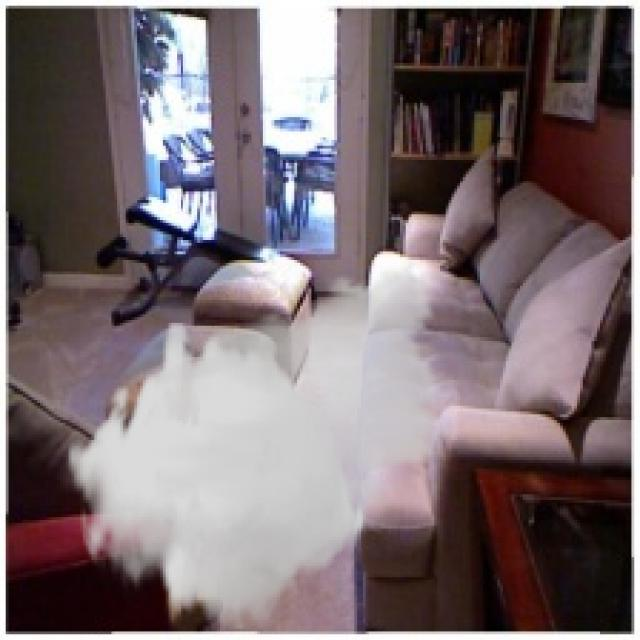smoke: (66, 252, 457, 628)
